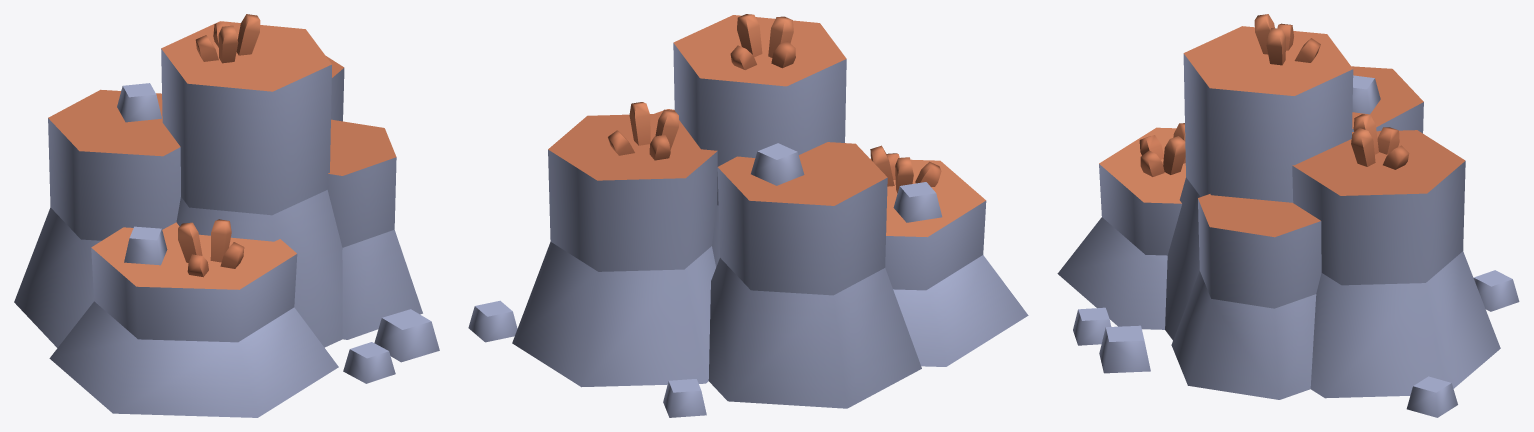
File: rocks-sand-c..glb
3 views of the same model, side by side, from view 1: azimuth 30°, elevation 25°; view 2: azimuth 150°, elevation 25°; view 3: azimuth 270°, elevation 25° (orthographic). The views are drawn at different scales.
Visible parts, largest first — view 1: rocks-sand-c; view 2: rocks-sand-c; view 3: rocks-sand-c.
Part boxes in pixels (<box>): rocks-sand-c: <box>14,14,439,417</box>; rocks-sand-c: <box>468,14,1028,417</box>; rocks-sand-c: <box>1057,14,1519,417</box>.
Bounding box in the file's own units: 3.71 × 2.61 × 3.72.
1 material, 1 textured.
